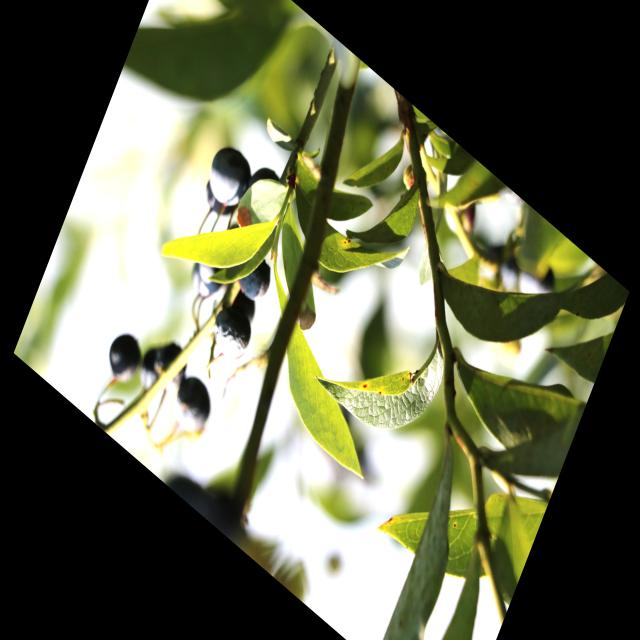blueberry: (202, 134, 255, 216), (104, 321, 148, 391), (170, 373, 215, 441), (210, 303, 253, 367), (235, 248, 276, 308), (195, 240, 234, 296), (136, 344, 172, 400), (154, 341, 188, 394)
